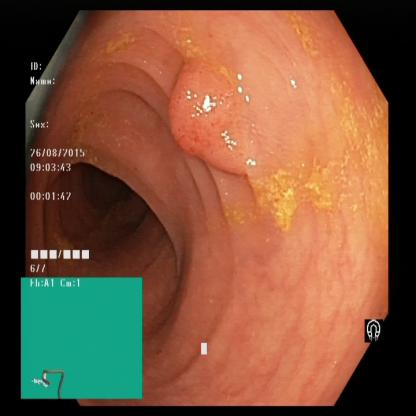Polyps: (163, 67, 287, 176)
